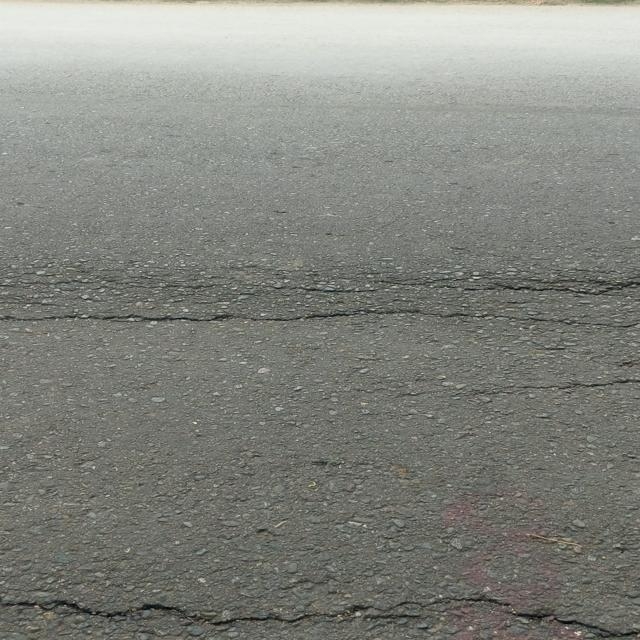Melintang: (0, 577, 640, 640), (0, 300, 640, 338)
